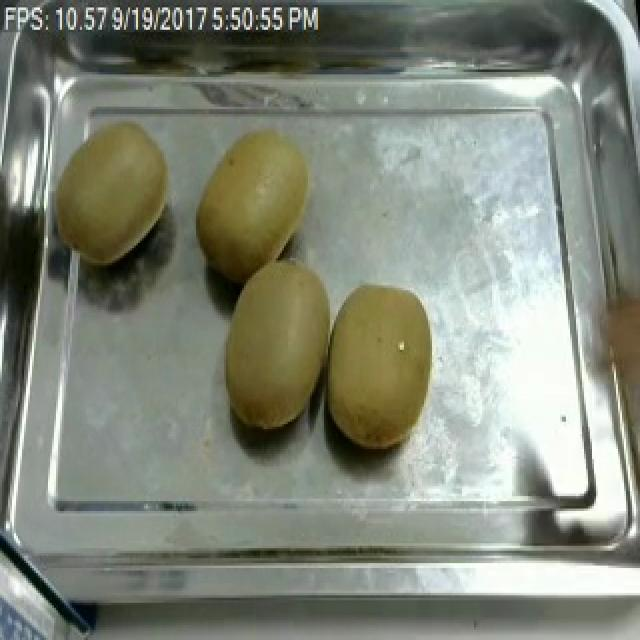Fruit: (320, 275, 446, 459), (188, 119, 318, 293), (216, 250, 330, 442), (46, 114, 178, 275)
